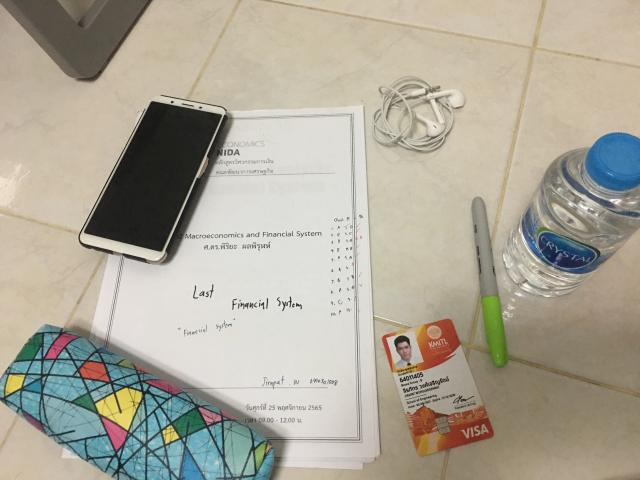Mobile phone: (77, 94, 228, 266)
Pen: (471, 198, 509, 371)
bottle: (502, 133, 640, 298)
paper: (60, 105, 382, 472)
wire: (375, 77, 466, 154)
